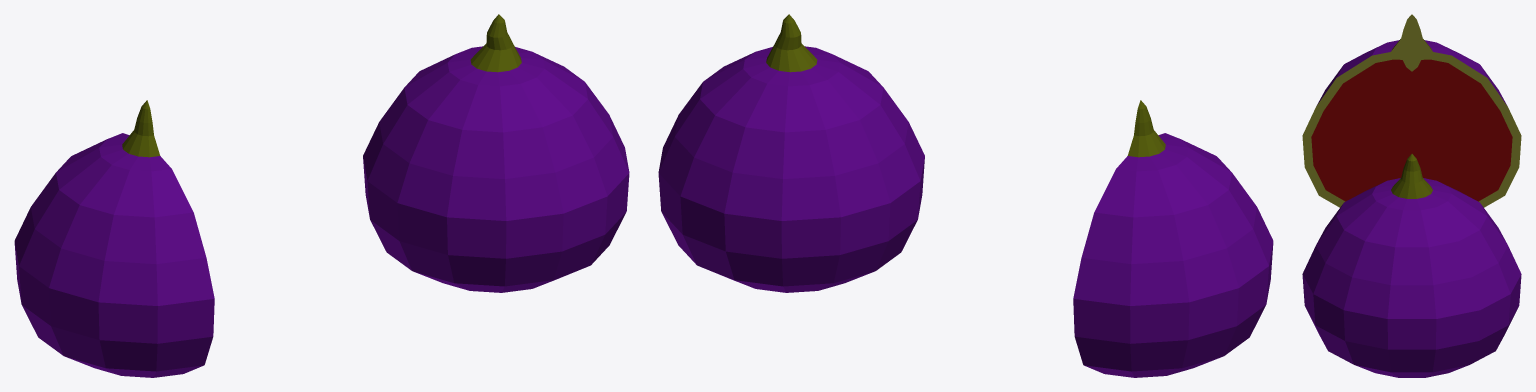
Rendered from figa.fbx.
3 views of the same model, side by side, from view 1: azimuth 30°, elevation 25°; view 2: azimuth 150°, elevation 25°; view 3: azimuth 270°, elevation 25° (orthographic). The views are drawn at different scales.
Visible parts, largest first — view 1: Sphere001, Sphere002; view 2: Sphere001, Sphere002; view 3: Sphere001, Sphere002.
Part boxes in pixels (bbox=[...]): Sphere001: bbox=[363, 14, 629, 292]; Sphere002: bbox=[14, 100, 214, 377]; Sphere001: bbox=[658, 14, 924, 292]; Sphere002: bbox=[1073, 100, 1273, 377]; Sphere001: bbox=[1302, 154, 1521, 377]; Sphere002: bbox=[1302, 14, 1521, 207].
Size of the model in its own units: 414 by 176 by 168.
